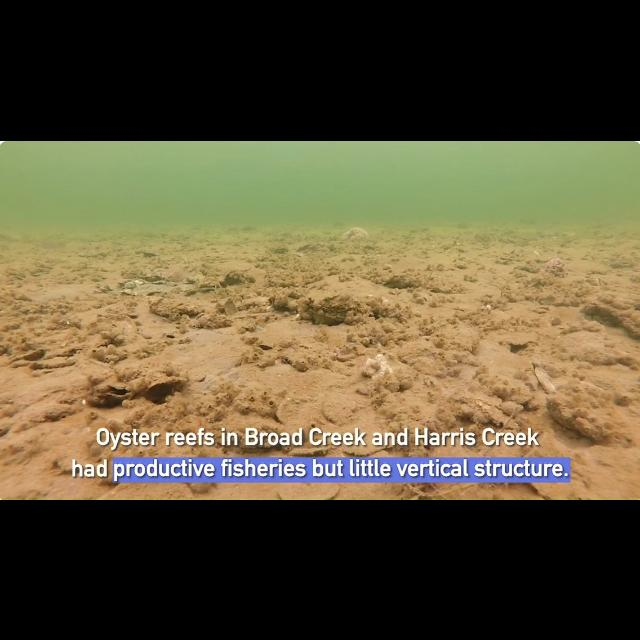Oyster-Closed: (314, 293, 365, 325), (138, 371, 188, 403), (233, 383, 278, 417), (149, 296, 204, 320), (98, 314, 143, 341), (546, 393, 578, 428), (480, 403, 520, 430), (323, 393, 356, 424), (278, 483, 340, 499), (500, 331, 538, 352), (510, 380, 536, 409), (375, 390, 405, 414), (531, 358, 566, 378), (30, 356, 75, 369), (404, 439, 436, 456), (221, 270, 255, 286), (535, 366, 555, 393), (131, 269, 169, 283), (375, 371, 400, 391), (470, 391, 501, 407), (343, 446, 390, 456), (288, 446, 334, 456), (569, 378, 603, 391), (500, 400, 524, 416), (453, 403, 475, 420), (395, 370, 413, 389), (194, 280, 220, 293), (343, 226, 369, 239), (371, 390, 389, 406), (23, 348, 46, 360), (273, 294, 289, 310), (415, 426, 429, 444), (291, 358, 310, 371), (471, 410, 489, 423), (224, 298, 238, 314), (258, 355, 275, 367), (298, 243, 318, 253), (334, 344, 350, 355), (135, 249, 156, 257), (271, 245, 289, 254), (215, 299, 225, 313), (258, 341, 273, 349), (334, 346, 341, 355)
Oyster-Open: (101, 380, 132, 399), (585, 274, 606, 286), (196, 313, 212, 323), (413, 291, 426, 303), (631, 266, 639, 272)
